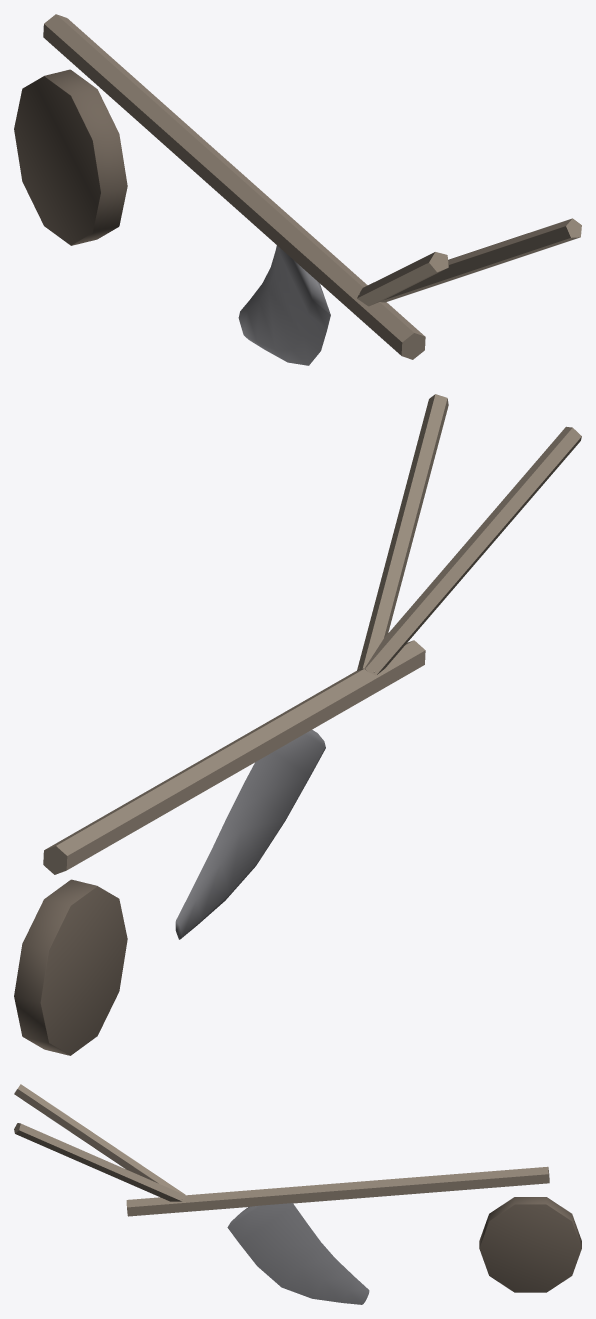
The model's file is plough.gltf.
The picture shows the model from 3 angles, top to bottom: view 1: azimuth 30°, elevation 25°; view 2: azimuth 150°, elevation 25°; view 3: azimuth 270°, elevation 25°; orthographic projection. The views are drawn at different scales.
Visible parts, largest first — view 1: Body; view 2: Body; view 3: Body.
Boxes of the visible parts, x1,y1,x2,y2 form: Body: (14, 14, 581, 365); Body: (14, 394, 581, 1055); Body: (14, 1084, 581, 1304).
Bounding box in the file's own units: 0.567 × 1.15 × 3.1.
